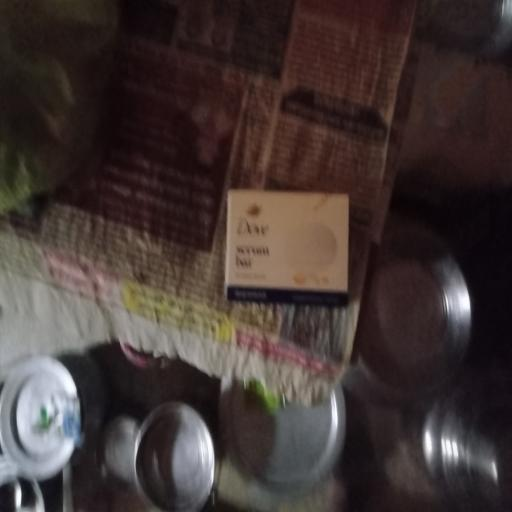Dove`1: (221, 187, 357, 308)
